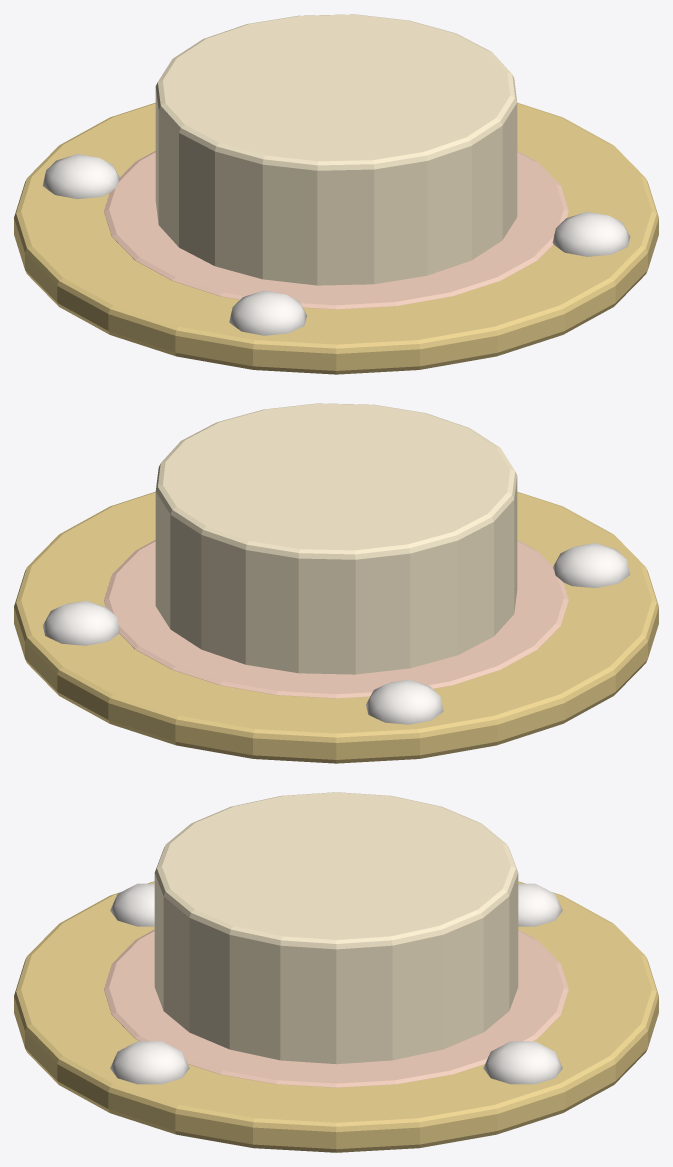
Rendered from opera_medallion_lit.glb.
The picture shows the model from 3 angles, top to bottom: view 1: azimuth 30°, elevation 25°; view 2: azimuth 150°, elevation 25°; view 3: azimuth 270°, elevation 25°; orthographic projection.
Visible parts, largest first — view 1: opera_medallion_lit.001; view 2: opera_medallion_lit.001; view 3: opera_medallion_lit.001.
Part boxes in pixels (left/top/right/bottom): opera_medallion_lit.001: left=14, top=14, right=658, bottom=374; opera_medallion_lit.001: left=14, top=403, right=658, bottom=763; opera_medallion_lit.001: left=14, top=792, right=658, bottom=1152.
Size of the model in its own units: 5.5 by 1.5 by 5.5.
